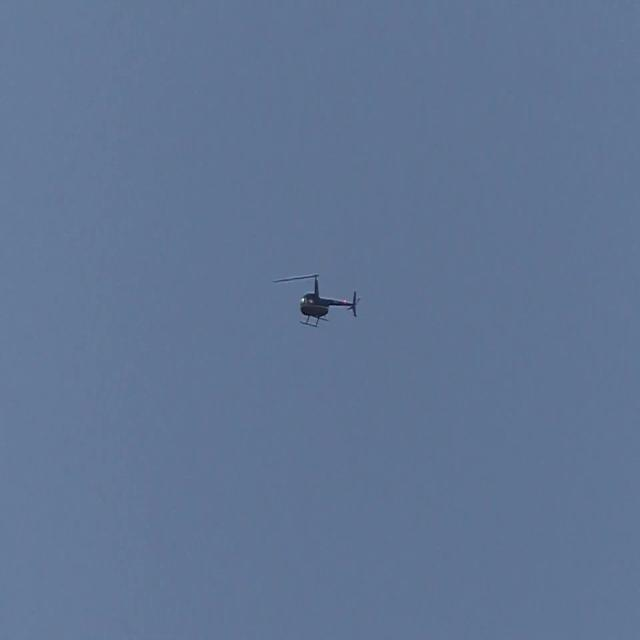CIV_HELO: (300, 273, 362, 328)
